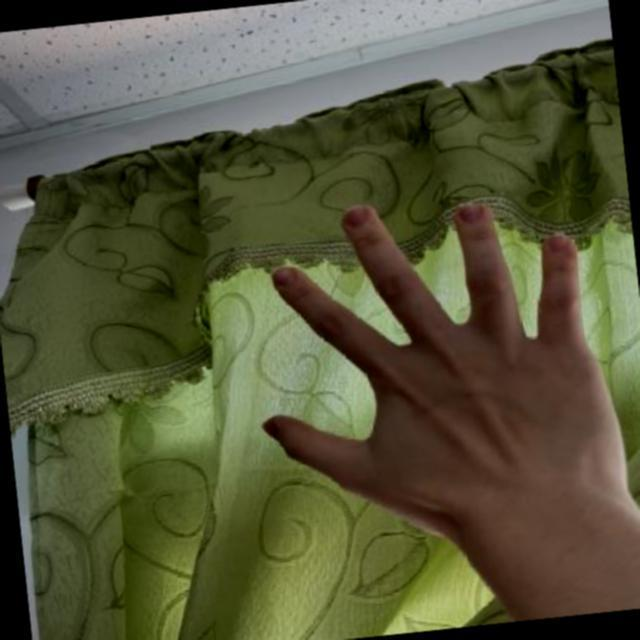hand: (217, 162, 640, 583)
